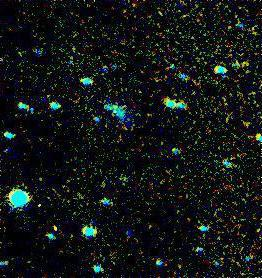star: (41, 212, 71, 242)
